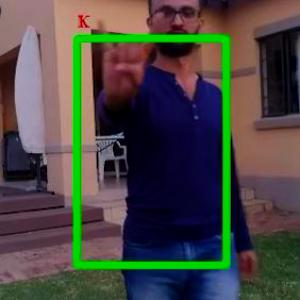takeoff-hand: (89, 11, 168, 96)
